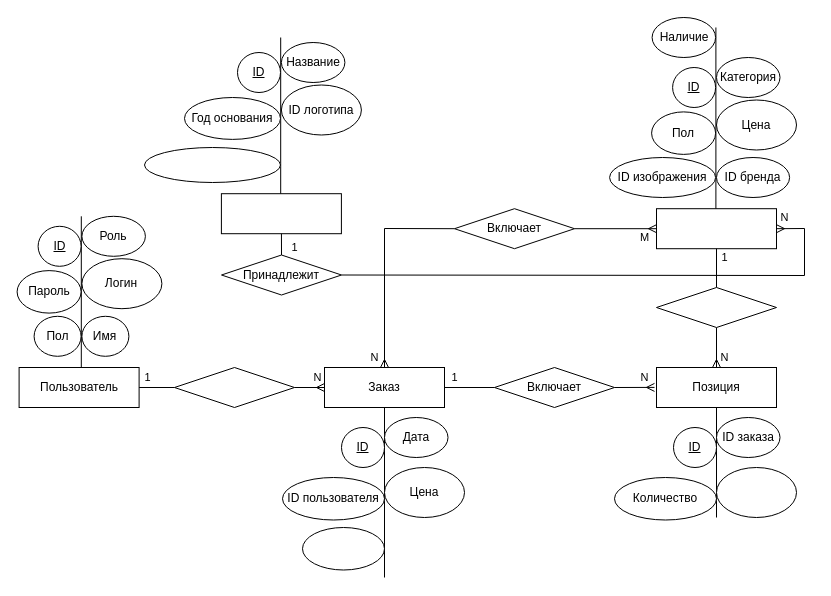
The diagram is 831 pixels wide and 596 high, and some of its shapes have lost their labels. Each missing label, with the centre of its shape:
"ID товара" belongs at (756,492).
"Бренд" belongs at (280,213).
"Название владельца" belongs at (212,164).
"Содержит" belongs at (716,307).
"Создает" belongs at (234,387).
"Статус" belongs at (343,548).
"Товар" belongs at (716,228).
